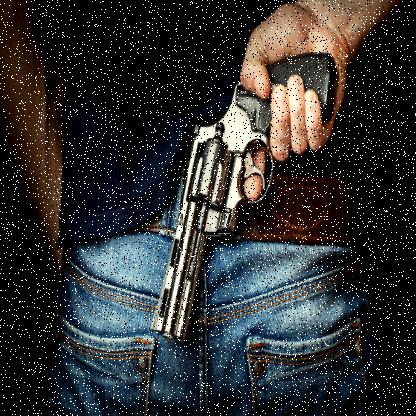pistol: (149, 46, 338, 342)
